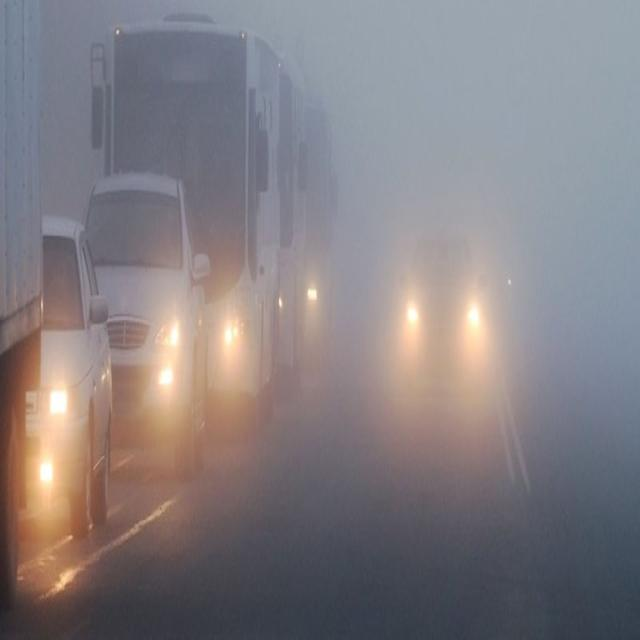car: (76, 174, 210, 466), (13, 215, 118, 551), (400, 229, 488, 395)
truck: (90, 20, 281, 421), (302, 86, 340, 378), (277, 36, 305, 408)
